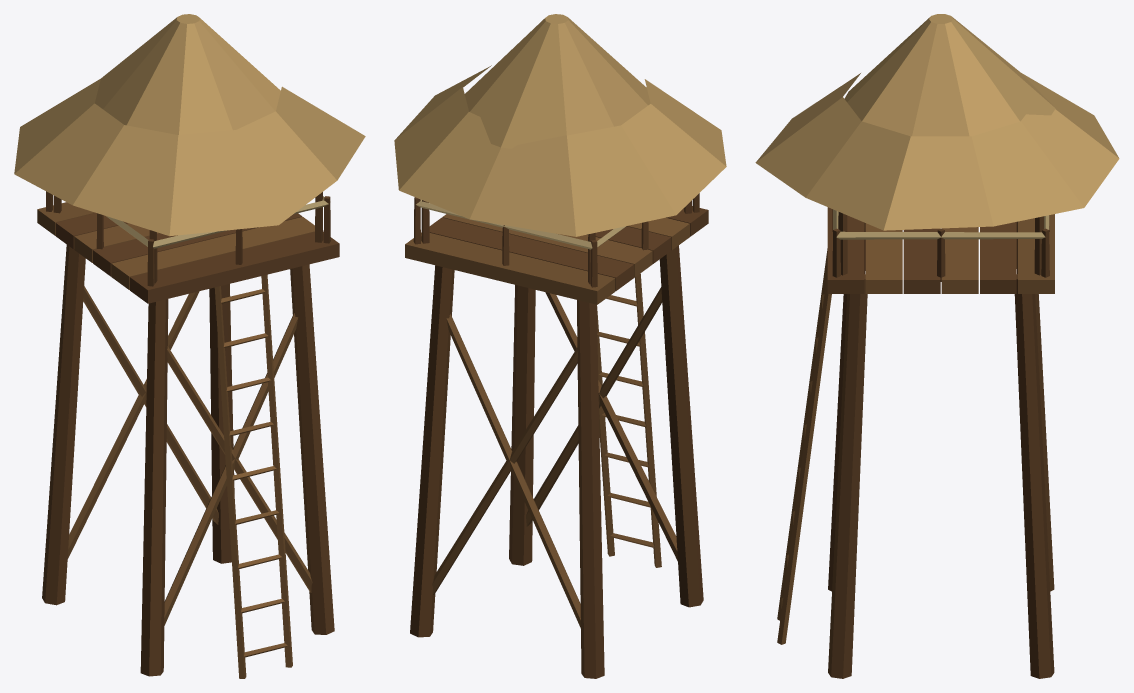
File: watchtower.glb
3 renders of one model, left to right at view 1: azimuth 30°, elevation 25°; view 2: azimuth 150°, elevation 25°; view 3: azimuth 270°, elevation 25°, orthographic. The views are drawn at different scales.
Parts seen in each view (by area): view 1: watchtower; view 2: watchtower; view 3: watchtower.
Part boxes in pixels (box(x1,y1,x2,y2)): watchtower: box(14, 14, 365, 678); watchtower: box(394, 14, 726, 678); watchtower: box(755, 14, 1119, 678).
Bounding box in the file's own units: 5.71 × 11.01 × 5.93.
